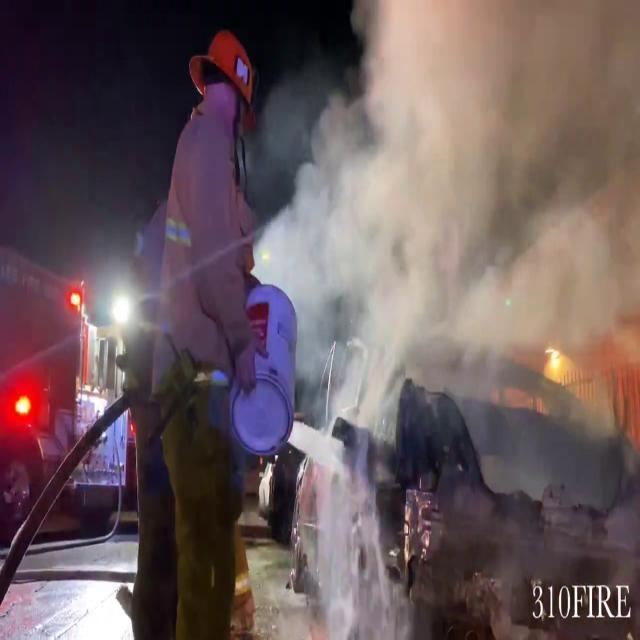Smoke: (251, 0, 640, 426)
